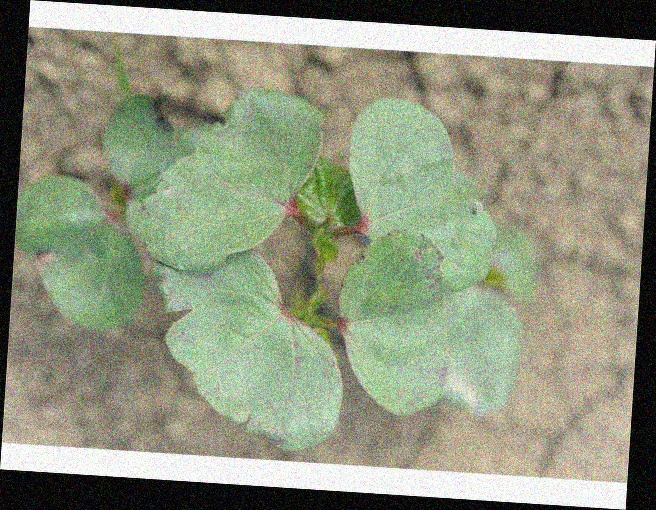cotton: (15, 91, 523, 446)
